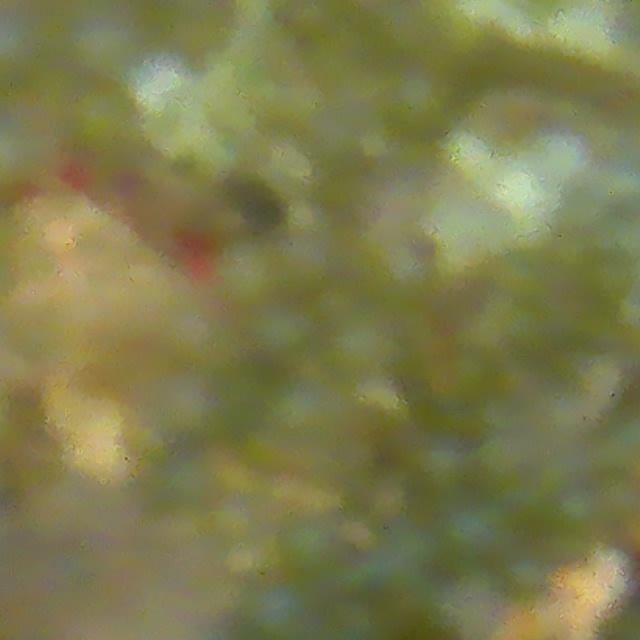SeaGrape: (243, 571, 322, 640), (437, 497, 508, 567), (248, 298, 316, 363), (65, 6, 130, 65), (410, 432, 472, 493)
